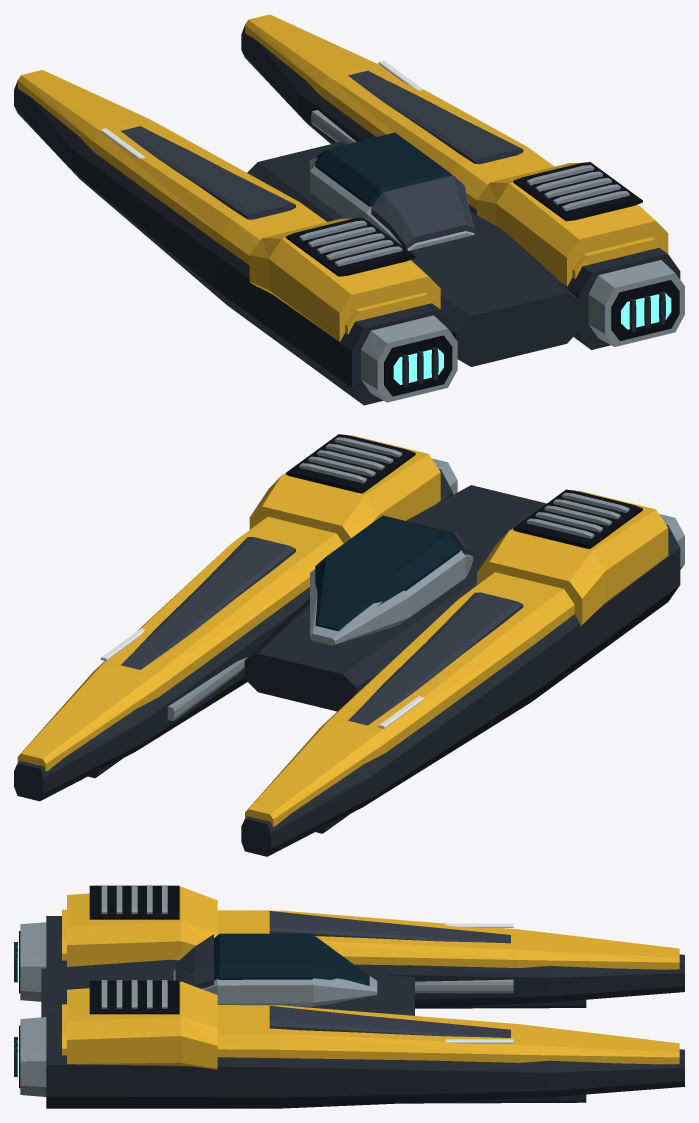
3 views of the same model, one above another, from view 1: azimuth 30°, elevation 25°; view 2: azimuth 150°, elevation 25°; view 3: azimuth 270°, elevation 25° (orthographic). The views are drawn at different scales.
Parts seen in each view (by area): view 1: Team_paint_004, Graphite_chassis_000, Titanium_edges_001, Secondary_paint_003, Intake_darkness_005, Smoked_canopy_002, Thruster_cyan_006, Identification_white_007; view 2: Team_paint_004, Graphite_chassis_000, Secondary_paint_003, Titanium_edges_001, Smoked_canopy_002, Intake_darkness_005, Identification_white_007; view 3: Team_paint_004, Graphite_chassis_000, Titanium_edges_001, Secondary_paint_003, Smoked_canopy_002, Intake_darkness_005, Identification_white_007.
Part boxes in pixels (x1,y1,x2,y2): Team_paint_004: (17,14,668,341); Graphite_chassis_000: (14,25,680,405); Titanium_edges_001: (299,110,684,402); Secondary_paint_003: (121,70,523,249); Intake_darkness_005: (286,162,679,396); Smoked_canopy_002: (315,132,452,206); Thruster_cyan_006: (393,292,671,384); Identification_white_007: (100,60,423,159); Team_paint_004: (17,435,668,827); Graphite_chassis_000: (14,469,680,856); Secondary_paint_003: (121,515,523,725); Titanium_edges_001: (167,437,684,720); Smoked_canopy_002: (315,517,461,631); Intake_darkness_005: (286,434,642,548); Identification_white_007: (100,628,424,728); Team_paint_004: (62,886,679,1069); Graphite_chassis_000: (14,915,684,1108); Titanium_edges_001: (20,885,513,1096); Secondary_paint_003: (175,911,510,1037); Smoked_canopy_002: (214,933,369,985); Intake_darkness_005: (19,885,179,1088); Identification_white_007: (445,923,513,1043).
Bounding box in the file's own units: 2.23 × 0.8 × 4.5.
